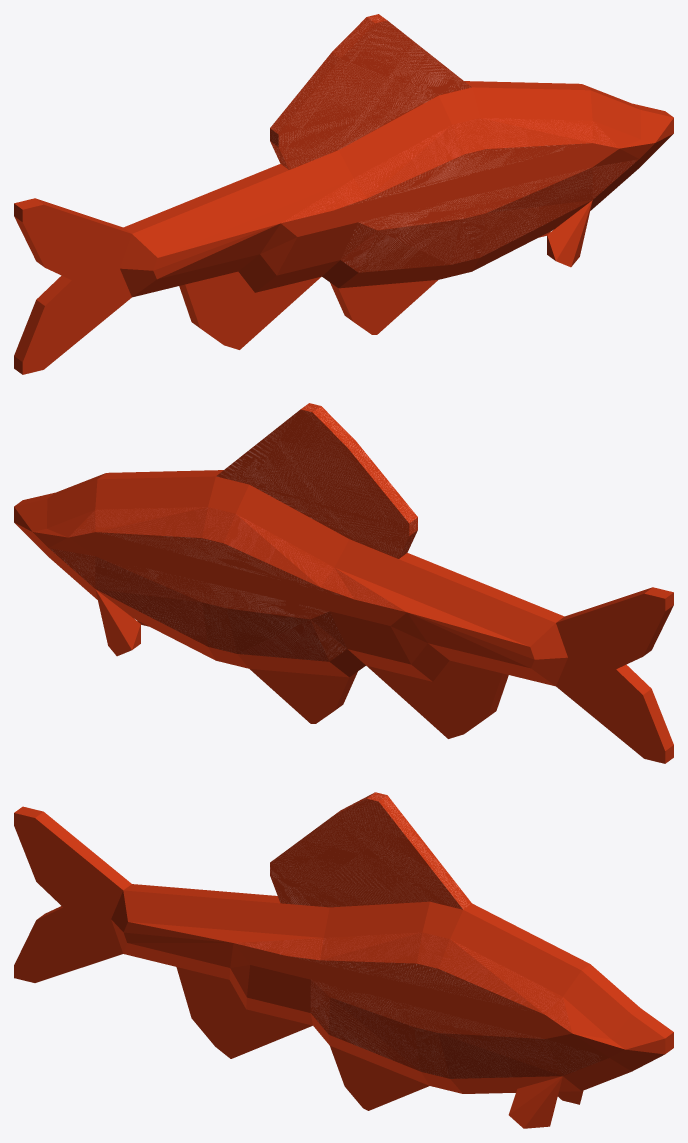
File: cherrybarb.obj
3 renders of one model, top to bottom at view 1: azimuth 30°, elevation 25°; view 2: azimuth 150°, elevation 25°; view 3: azimuth 330°, elevation 25°, orthographic.
Parts seen in each view (by area): view 1: object 4, SketchUp, SketchUp_ID40, SketchUp_ID20; view 2: object 4, SketchUp, SketchUp_ID40, SketchUp_ID20; view 3: object 4, SketchUp, SketchUp_ID40, SketchUp_ID20.
Boxes of the visible parts, x1=… form: object 4: x1=14, y1=14, x2=673, y2=374; SketchUp: x1=23, y1=118, x2=673, y2=374; SketchUp_ID40: x1=123, y1=81, x2=673, y2=257; SketchUp_ID20: x1=270, y1=14, x2=471, y2=169; object 4: x1=14, y1=403, x2=673, y2=763; SketchUp: x1=14, y1=507, x2=649, y2=668; SketchUp_ID40: x1=14, y1=470, x2=564, y2=646; SketchUp_ID20: x1=216, y1=403, x2=417, y2=558; object 4: x1=14, y1=792, x2=673, y2=1110; SketchUp: x1=14, y1=812, x2=673, y2=1128; SketchUp_ID40: x1=123, y1=884, x2=673, y2=1049; SketchUp_ID20: x1=270, y1=792, x2=471, y2=909.
Size of the model in its own units: 10.72 by 4.91 by 1.35.
